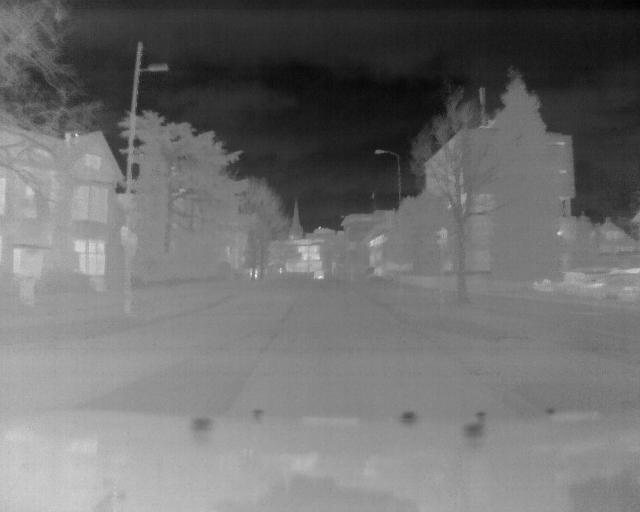car: (311, 269, 327, 281)
